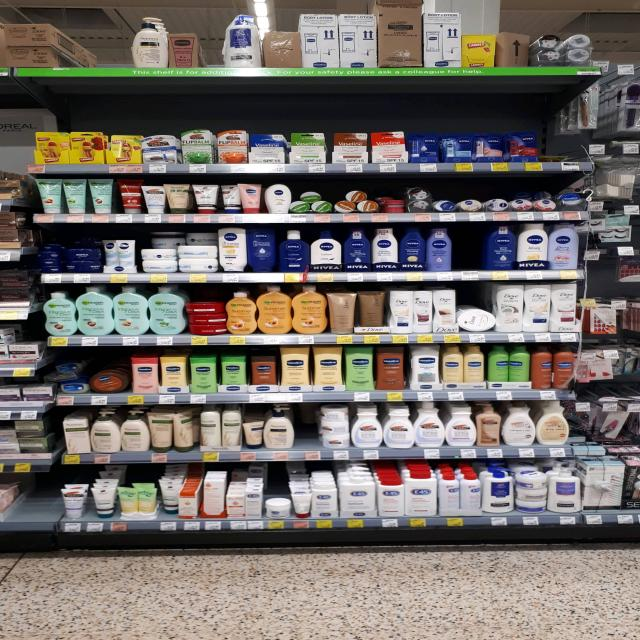void: (18, 474, 60, 520), (458, 222, 480, 274), (300, 406, 317, 449)
